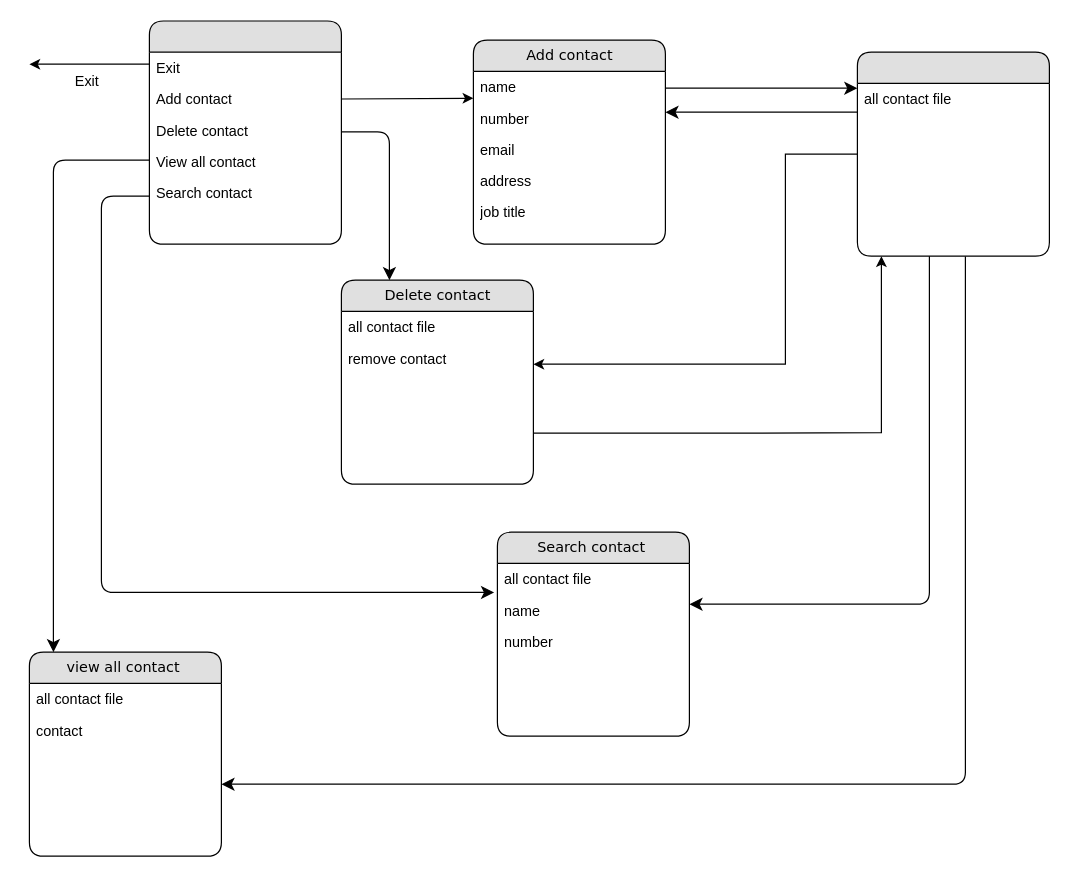
The diagram is 1070 pixels wide and 877 high, and some of its shapes have lost their labels. Here are the shapes that lost their labels. From the top down, the box of each, then its label:
(148, 20, 341, 244): main menu
(856, 51, 1049, 256): Save all contact
